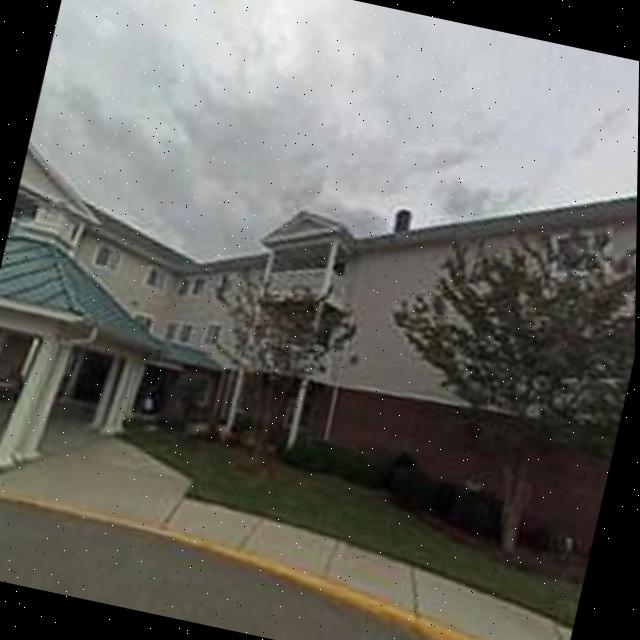building: (0, 53, 639, 583)
